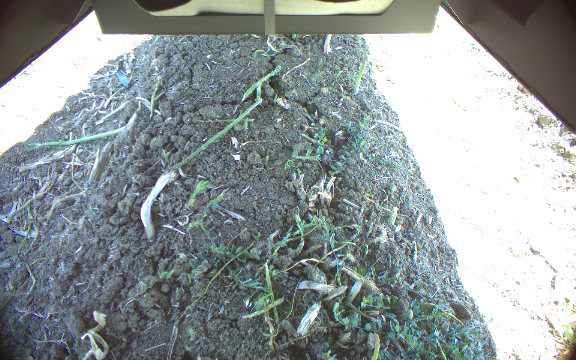aspa: (351, 54, 370, 97), (366, 331, 379, 360)
